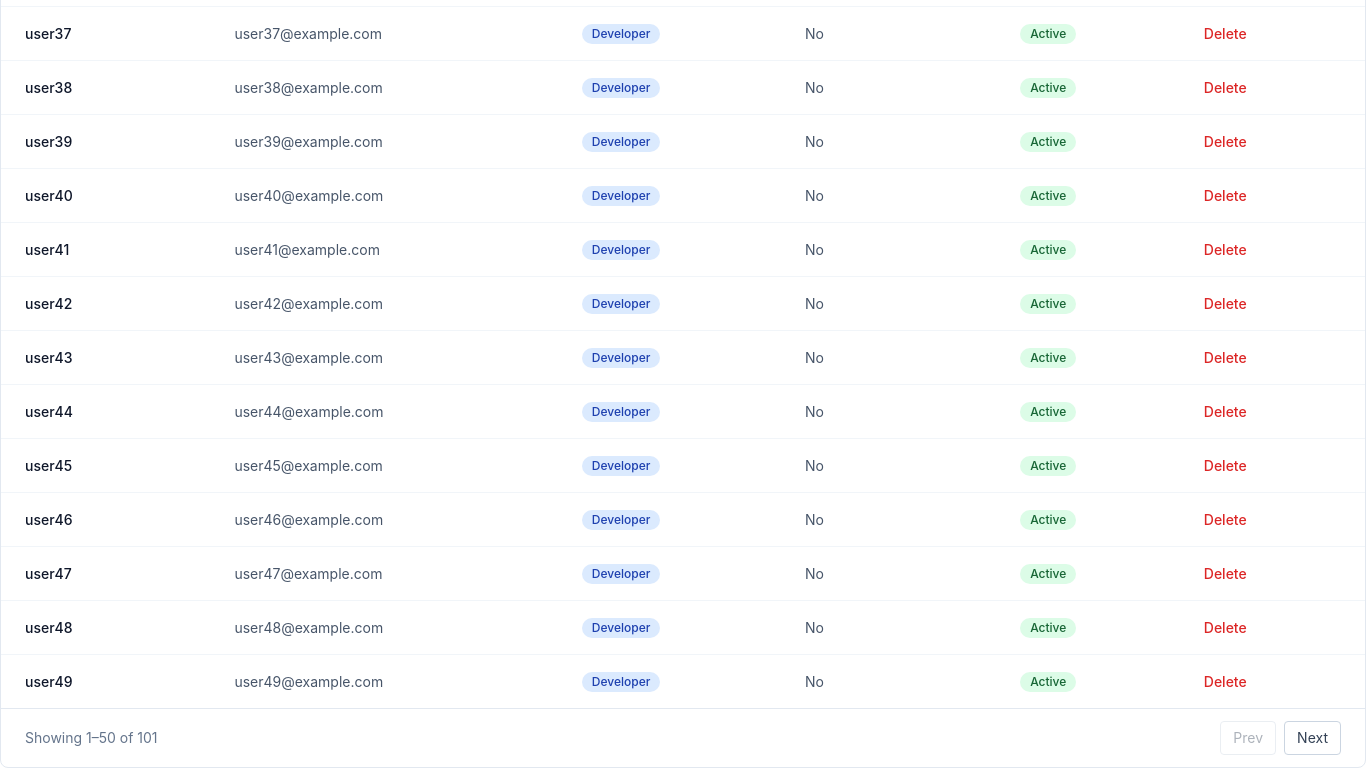
it: UserTable › deleting the only row on the last page steps back a page
(page scrolled)
Step 1. Click the button with test id "user-page-next" → (1313, 738), box [1284,721,1341,755]
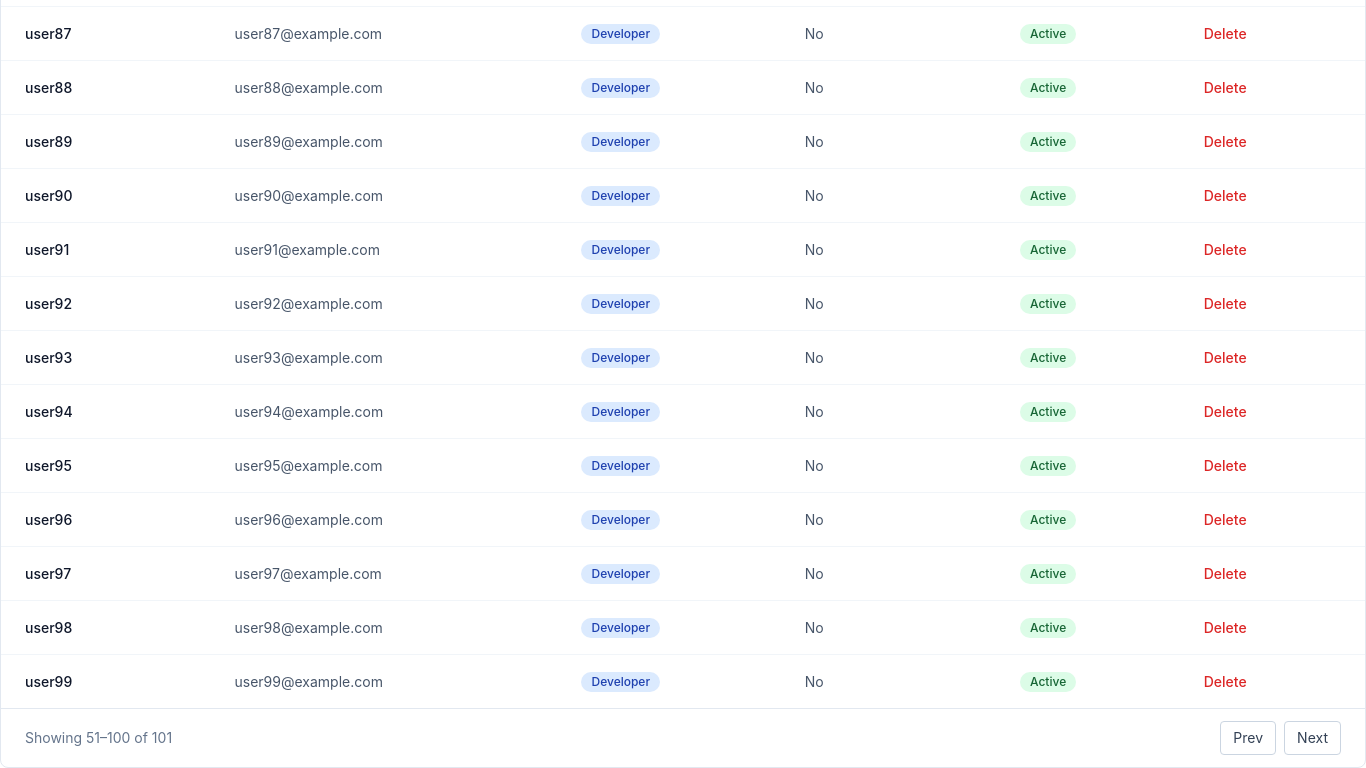
Now the text with test id "user-page-info" reads "Showing 51–100 of 101", box [25,728,172,748]
Step 2. Click the button with test id "user-page-next" → (1313, 738), box [1284,721,1341,755]
(page scrolled)
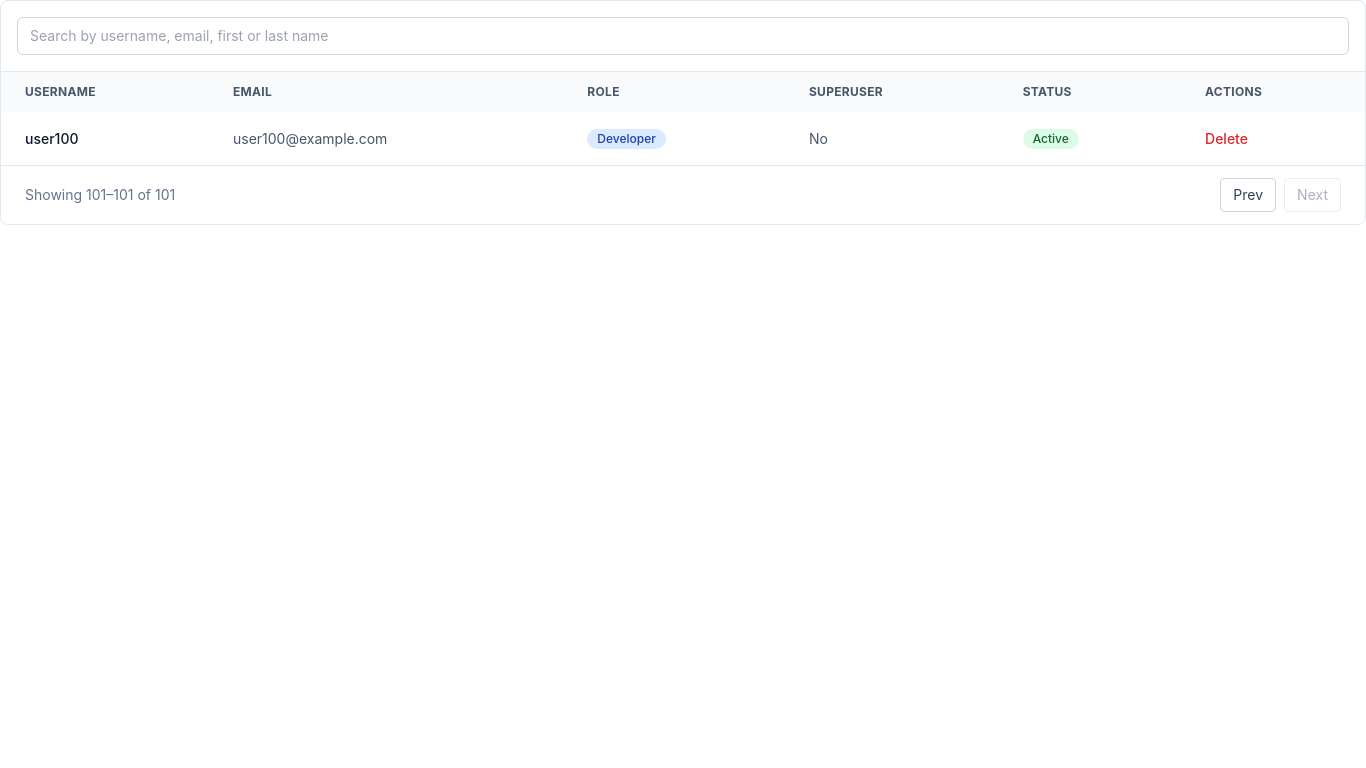
Now the text with test id "user-page-info" reads "Showing 101–101 of 101", box [25,185,175,205]
Step 3. Click the button with test id "delete-user-u100" → (1226, 138), box [1205,128,1248,148]
(page scrolled)
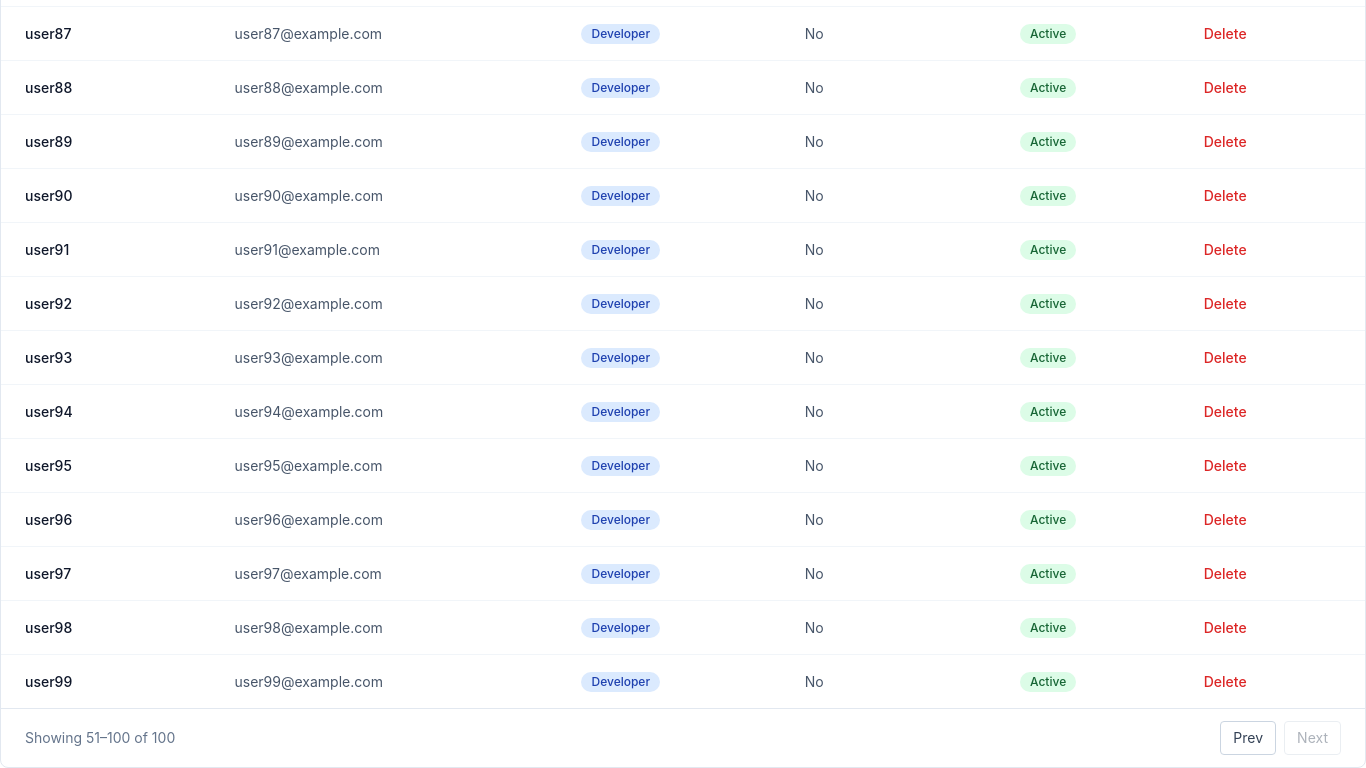
Now the text with test id "user-page-info" reads "Showing 51–100 of 100", box [25,728,175,748]
